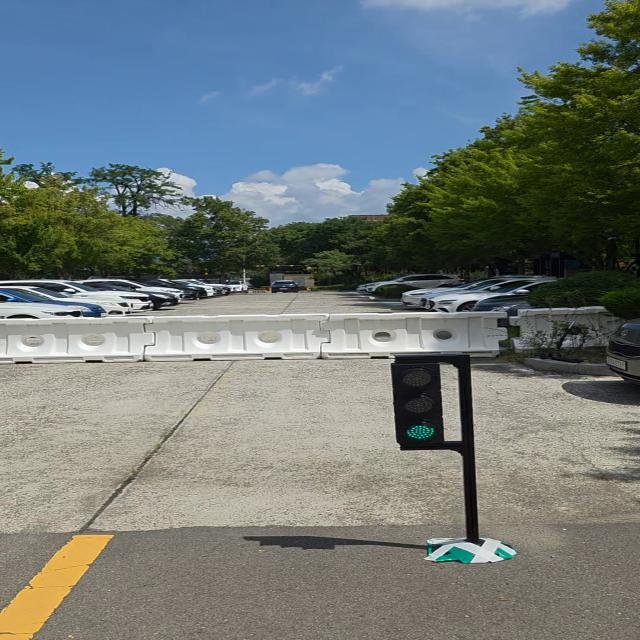green: (388, 359, 442, 448)
